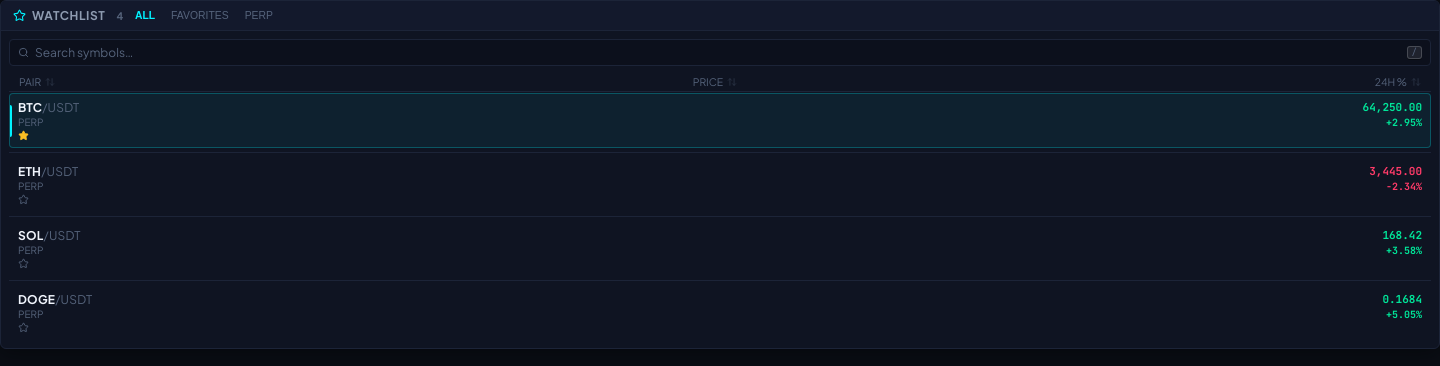
WatchlistPanel Feature with Zustand State Management › filters by category tabs (FAVORITES / ALL)
Click the button "FAVORITES": (200, 16) [165,8,235,23]
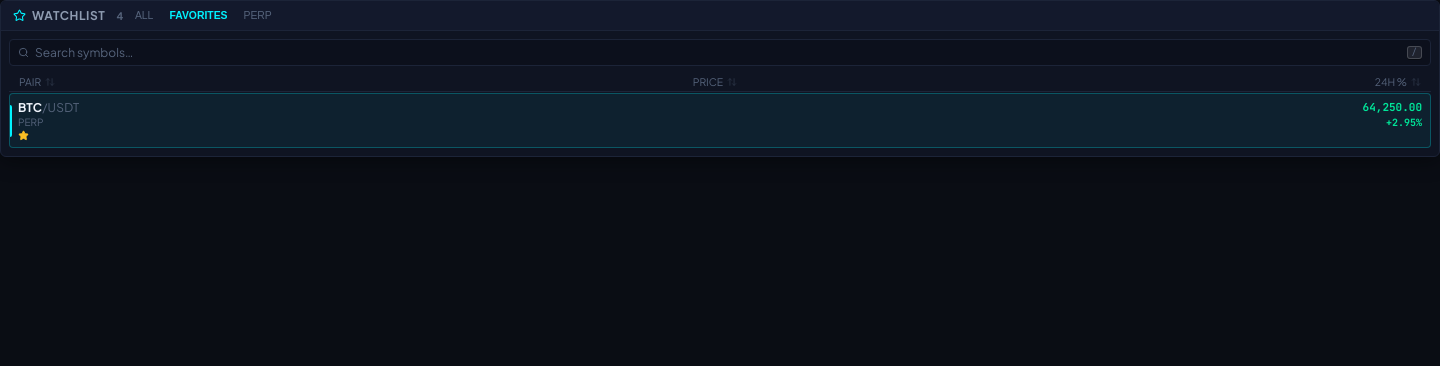
Expected: the button with test id "watchlist-item-BTC" is shown, [9,93,1431,148]
Expected: the button with test id "watchlist-item-ETH" is gone
Click the button "ALL": (144, 16) [129,8,159,23]
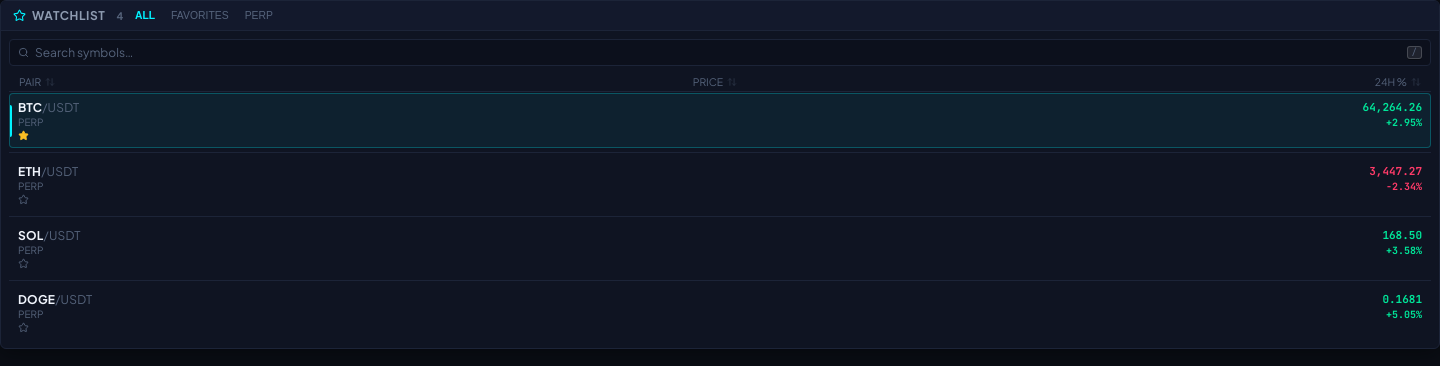
Expected: the button with test id "watchlist-item-ETH" is shown, [9,157,1431,212]
